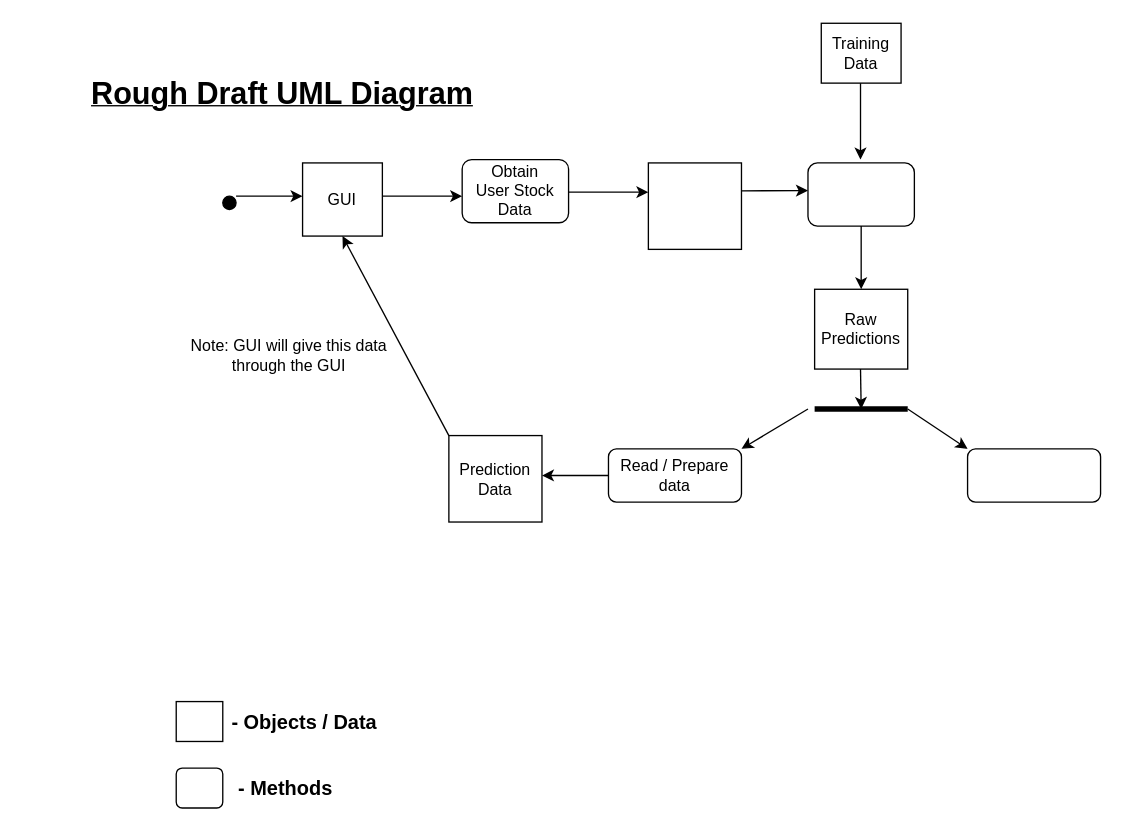
Image size: 1124x831. Some labels were removed from this diagram. The shapes that lost their labels are listed below. From the top down, each one's centre as x and y in pixels, then its label:
At pixel 694 205: "User Stock data (or default data)".
At pixel 860 194: "ML Algorithm".
At pixel 1033 475: "Log Predictions".
